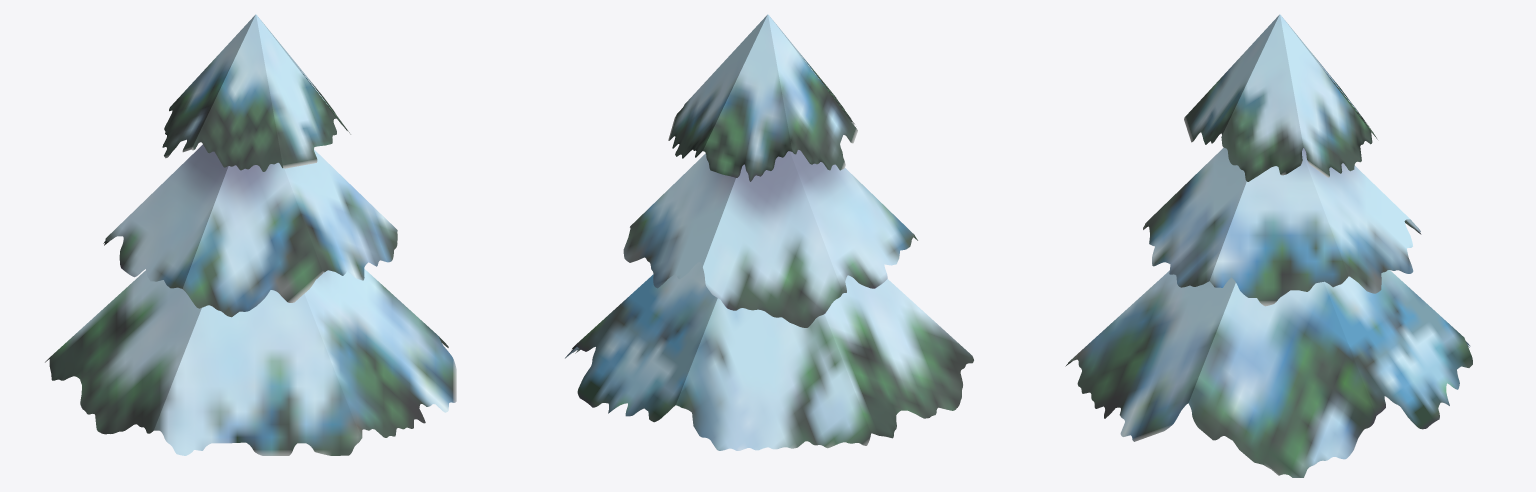
The model's file is tree_03.dae.
3 renders of one model, left to right at view 1: azimuth 30°, elevation 25°; view 2: azimuth 150°, elevation 25°; view 3: azimuth 270°, elevation 25°, orthographic.
Visible parts, largest first — view 1: tree_03; view 2: tree_03; view 3: tree_03.
Part boxes in pixels (left/top/right/bottom): tree_03: left=45, top=14, right=456, bottom=455; tree_03: left=565, top=14, right=974, bottom=450; tree_03: left=1065, top=14, right=1472, bottom=477.
Bounding box in the file's own units: 3.46 × 4 × 3.43.
Materials: 1 (1 with a texture image).
